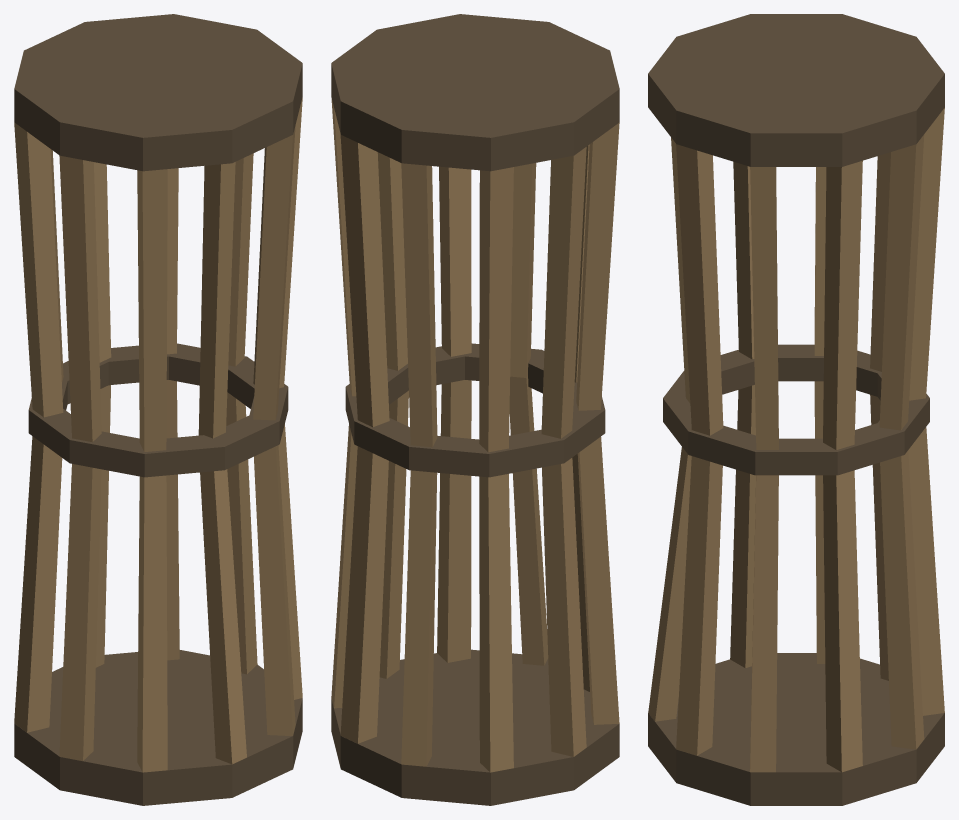
Rendered from Cage_4_Brown.fbx.
3 views of the same model, side by side, from view 1: azimuth 30°, elevation 25°; view 2: azimuth 150°, elevation 25°; view 3: azimuth 270°, elevation 25° (orthographic).
Visible parts, largest first — view 1: Cage_4_Brown_Part_2, Cage_4_Brown_Part_1; view 2: Cage_4_Brown_Part_2, Cage_4_Brown_Part_1; view 3: Cage_4_Brown_Part_2, Cage_4_Brown_Part_1.
Boxes of the visible parts, x1=… form: Cage_4_Brown_Part_2: x1=14, y1=97, x2=302, y2=772; Cage_4_Brown_Part_1: x1=14, y1=14, x2=302, y2=805; Cage_4_Brown_Part_2: x1=331, y1=99, x2=619, y2=772; Cage_4_Brown_Part_1: x1=331, y1=14, x2=619, y2=805; Cage_4_Brown_Part_2: x1=648, y1=107, x2=944, y2=772; Cage_4_Brown_Part_1: x1=648, y1=14, x2=944, y2=805.
Size of the model in its own units: 76.18 by 200 by 80.
